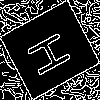H: (25, 25, 81, 79)
